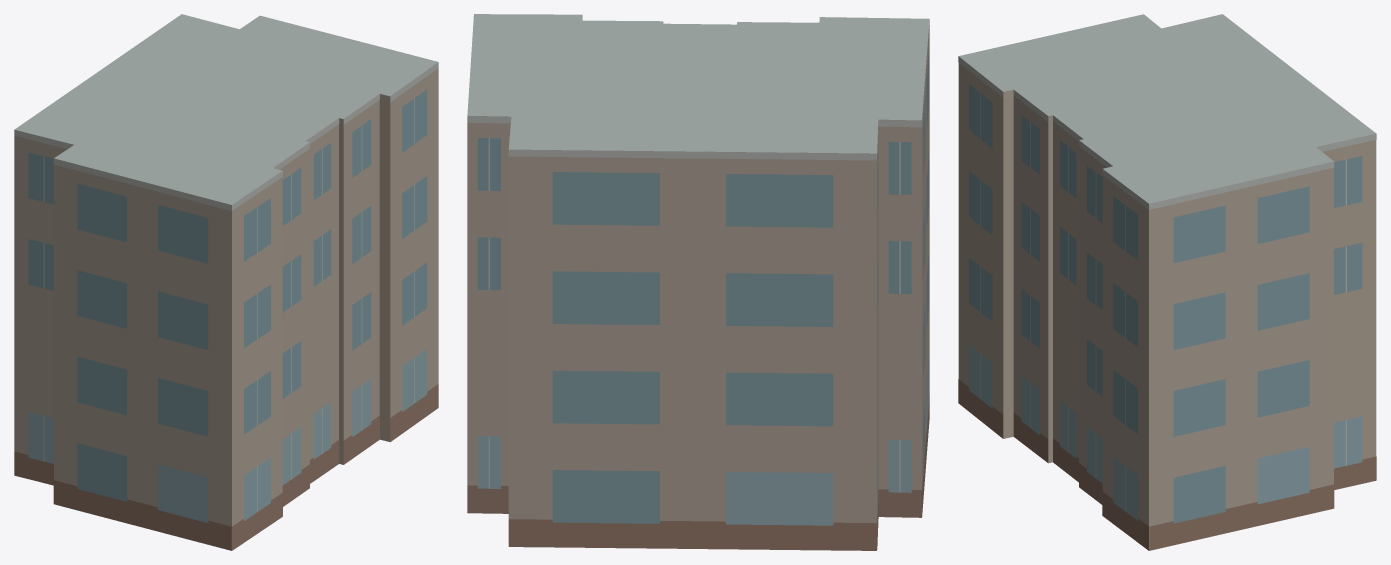
File: survey-upis-32508799.glb
3 renders of one model, left to right at view 1: azimuth 30°, elevation 25°; view 2: azimuth 150°, elevation 25°; view 3: azimuth 270°, elevation 25°, orthographic. The views are drawn at different scales.
Visible parts, largest first — view 1: survey-upis-32508799.tmp; view 2: survey-upis-32508799.tmp; view 3: survey-upis-32508799.tmp.
Part boxes in pixels (bbox=[...]): survey-upis-32508799.tmp: bbox=[14, 14, 438, 550]; survey-upis-32508799.tmp: bbox=[467, 14, 929, 550]; survey-upis-32508799.tmp: bbox=[958, 14, 1376, 550].
Size of the model in its own units: 16.37 by 13.95 by 15.23.
